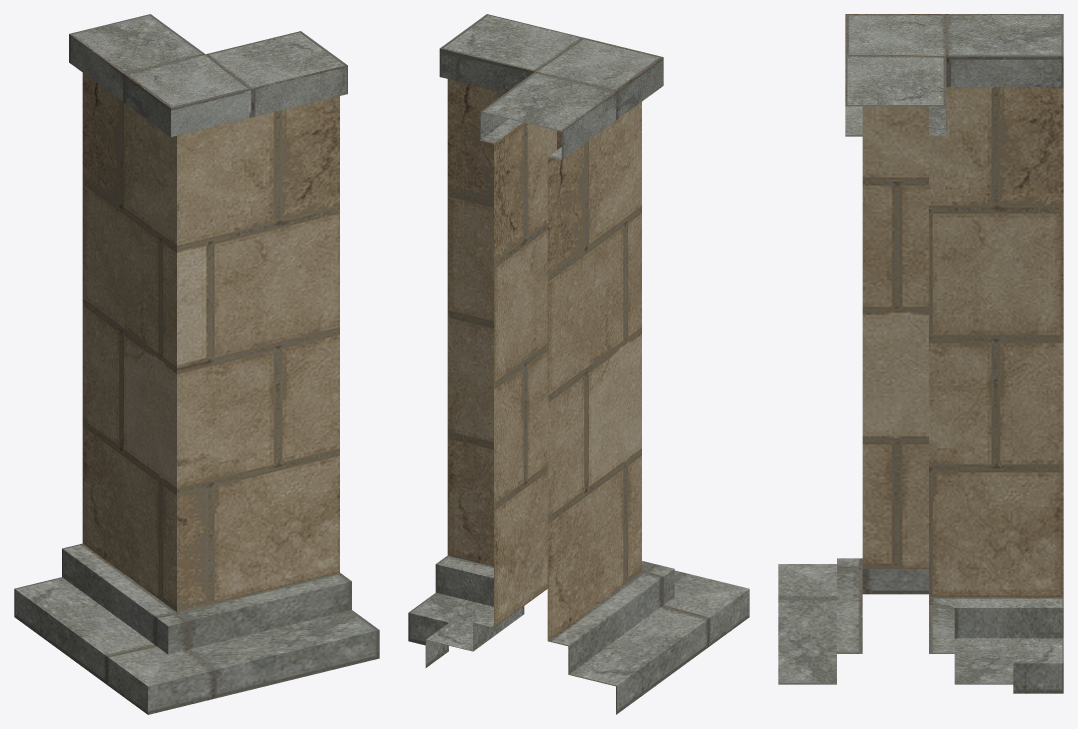
File: wall_crn_half.fbx
The picture shows the model from 3 angles, left to right: view 1: azimuth 30°, elevation 25°; view 2: azimuth 150°, elevation 25°; view 3: azimuth 270°, elevation 25°; orthographic projection. The views are drawn at different scales.
Parts seen in each view (by area): view 1: wall_crn_half; view 2: wall_crn_half; view 3: wall_crn_half.
Boxes of the visible parts, x1=… form: wall_crn_half: x1=14, y1=14, x2=379, y2=714; wall_crn_half: x1=408, y1=14, x2=749, y2=714; wall_crn_half: x1=778, y1=14, x2=1063, y2=693.
Bounding box in the file's own units: 85 × 200 × 85.
